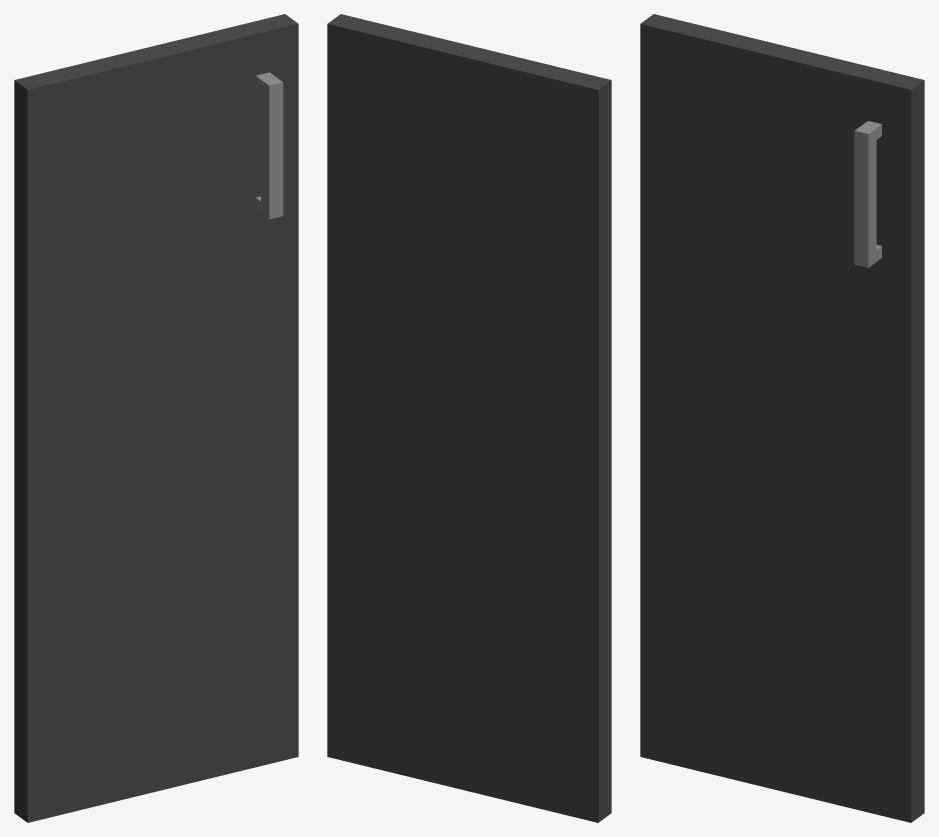
Rendered from Door1_C3_04.fbx.
The picture shows the model from 3 angles, left to right: view 1: azimuth 30°, elevation 25°; view 2: azimuth 150°, elevation 25°; view 3: azimuth 330°, elevation 25°; orthographic projection.
Visible parts, largest first — view 1: Door1_C3_04; view 2: Door1_C3_04; view 3: Door1_C3_04.
Boxes of the visible parts, x1=… form: Door1_C3_04: x1=14, y1=14, x2=298, y2=822; Door1_C3_04: x1=327, y1=14, x2=611, y2=822; Door1_C3_04: x1=640, y1=14, x2=924, y2=822.
Bounding box in the file's own units: 29 × 75 × 5.03.
